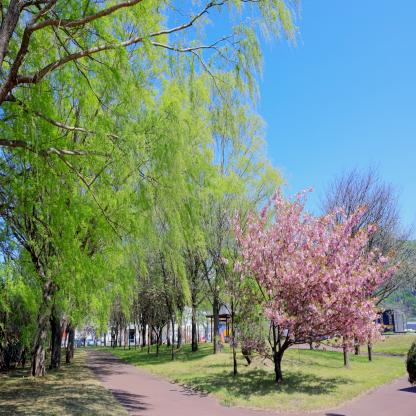YaeSakura: (256, 182, 403, 360), (217, 193, 262, 364)
